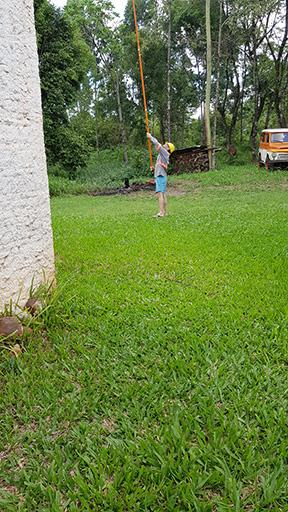Vara_Manobra: (130, 1, 155, 170)
